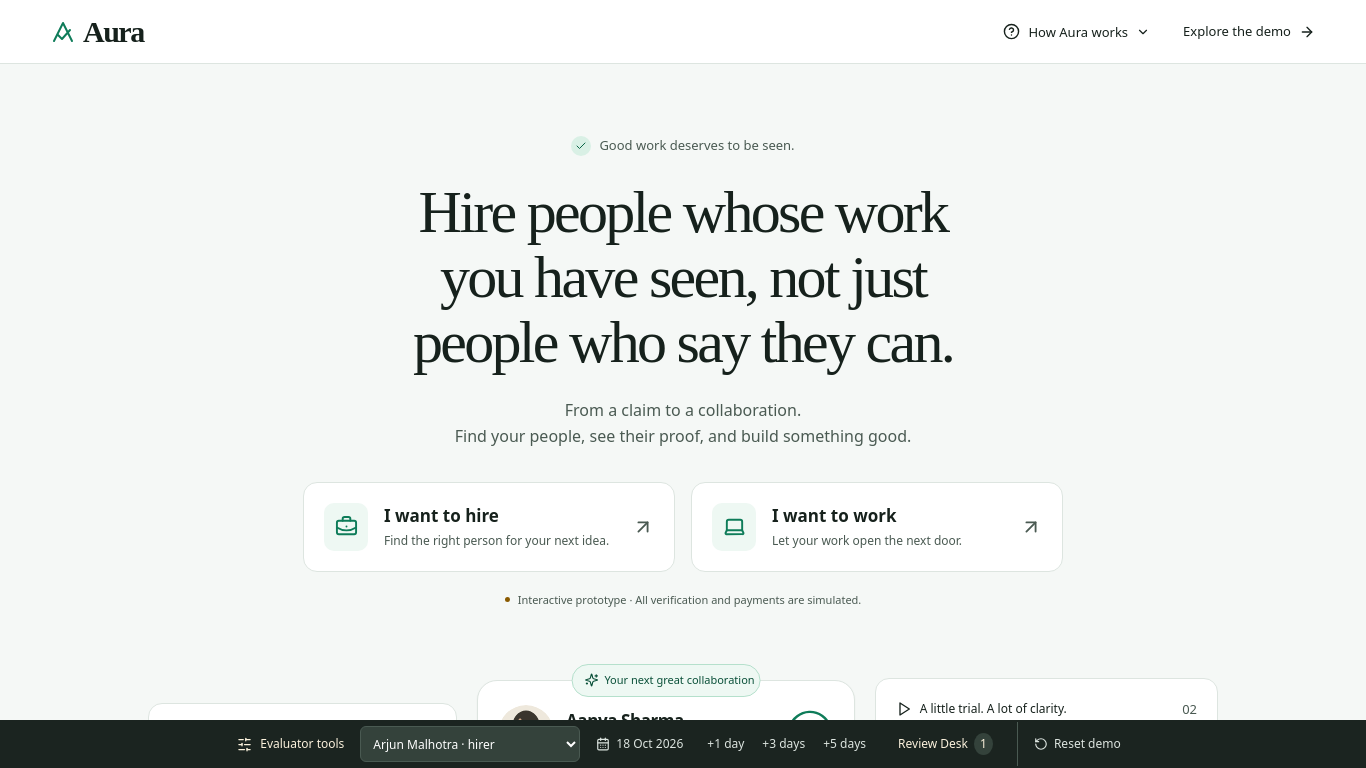
routes and interactions › connects landing role choice to onboarding
Click the link "I want to hire Find the right person for your next idea." at (489, 527), box [303,482,675,572]
(page scrolled)
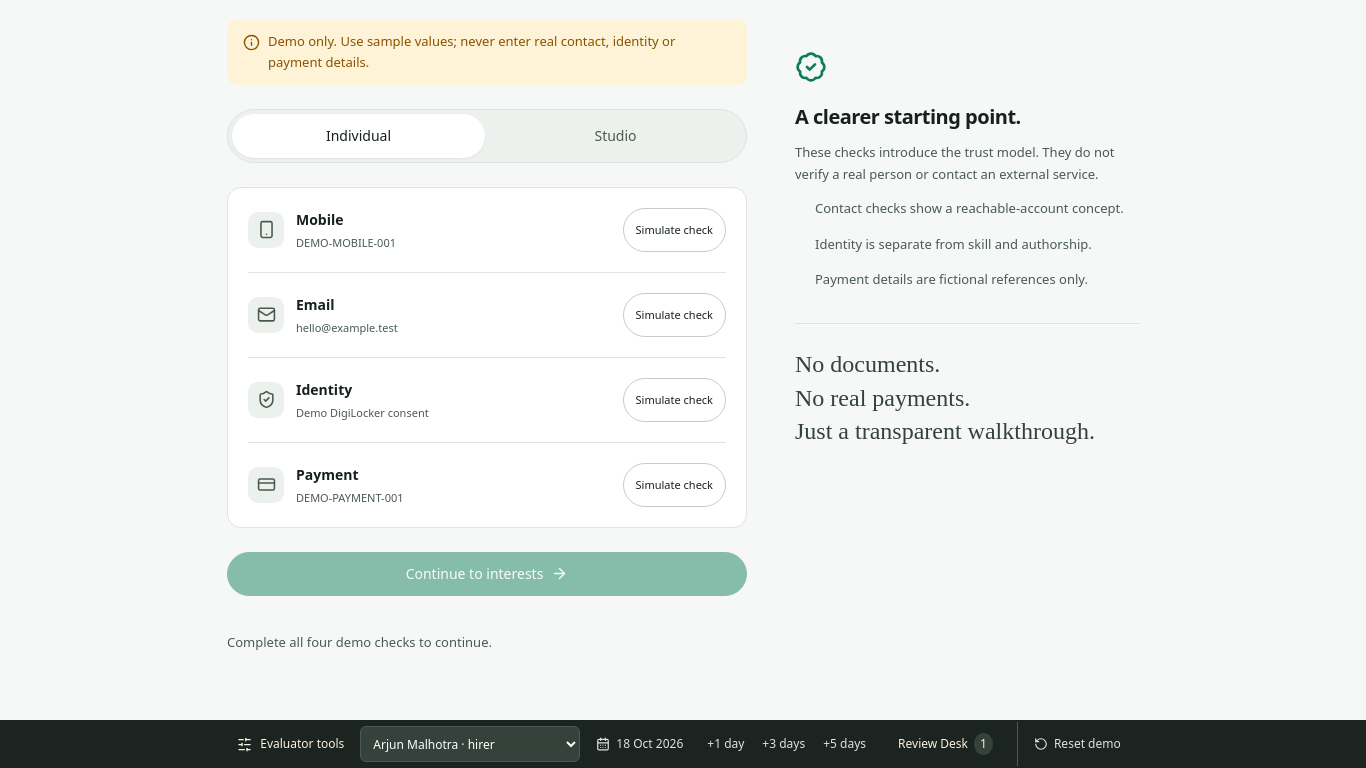
expect the button "Continue to interests" is disabled: met, box [227,552,747,596]
